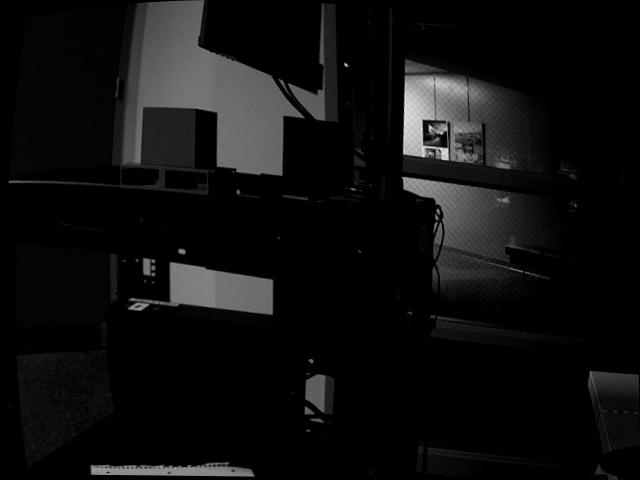black pallet: (251, 114, 367, 210)
grey pallet: (119, 105, 238, 202)
